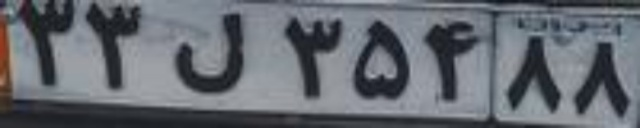3: (82, 2, 141, 87), (284, 16, 341, 99), (16, 0, 70, 87)
4: (421, 20, 479, 100)
5: (350, 20, 410, 99)
8: (572, 41, 634, 118), (503, 35, 563, 114)
lam: (169, 12, 246, 93)
